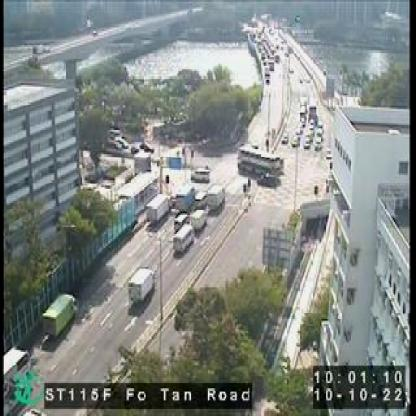Bus: (236, 144, 282, 176), (174, 224, 193, 256)
Car: (258, 171, 280, 191), (174, 210, 190, 230), (192, 165, 210, 181), (314, 132, 322, 149), (281, 132, 290, 144), (304, 136, 312, 149)
Truck: (42, 292, 76, 345), (127, 267, 156, 306), (147, 194, 170, 230), (174, 183, 195, 214), (206, 184, 225, 214), (192, 208, 209, 230)
